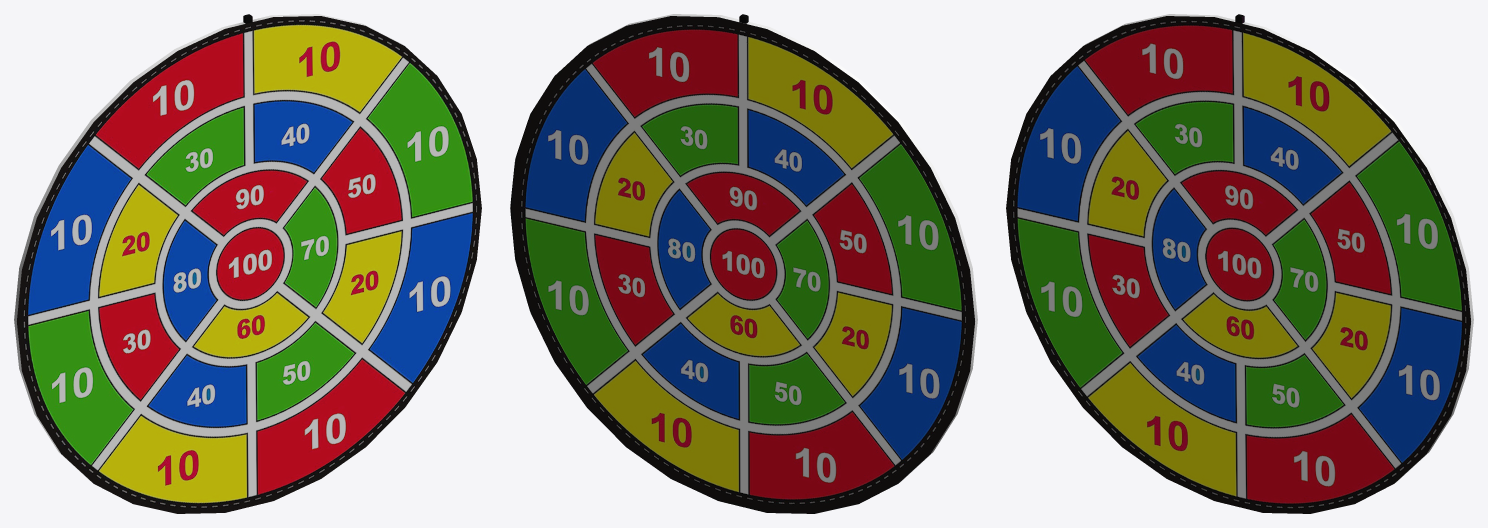
File: Darts board.fbx
3 views of the same model, side by side, from view 1: azimuth 30°, elevation 25°; view 2: azimuth 150°, elevation 25°; view 3: azimuth 330°, elevation 25° (orthographic).
Parts seen in each view (by area): view 1: Darts board; view 2: Darts board; view 3: Darts board.
Boxes of the visible parts, left/top/right/bottom form: Darts board: left=14, top=14, right=481, bottom=513; Darts board: left=510, top=14, right=977, bottom=513; Darts board: left=1006, top=14, right=1473, bottom=513.
Bounding box in the file's own units: 38 × 38.29 × 0.3878.
1 material, 1 textured.
